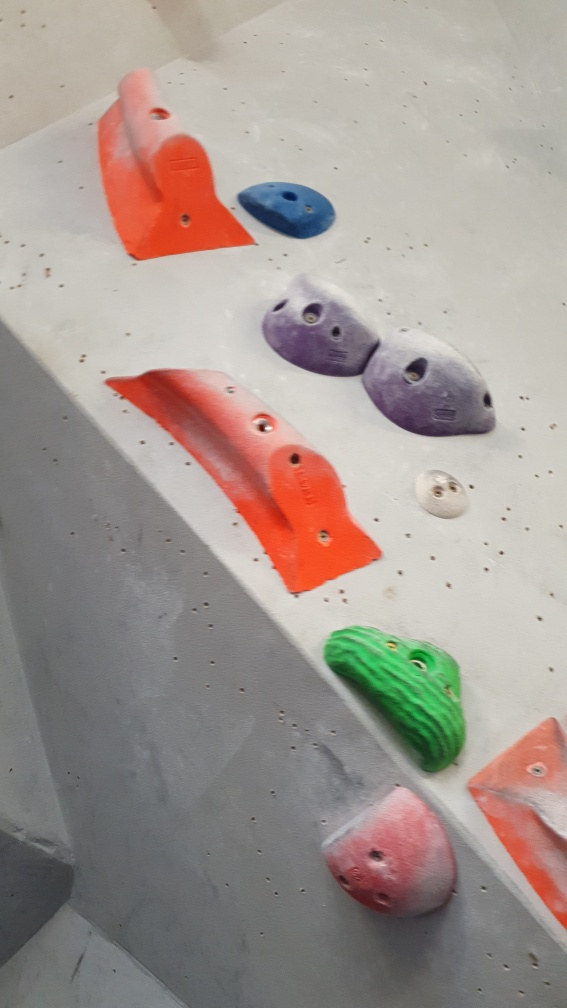Crimp: (235, 170, 337, 245)
Jug: (323, 622, 465, 773), (362, 325, 500, 441), (261, 270, 385, 378)
Pinch: (98, 360, 384, 603), (79, 69, 261, 266), (466, 721, 567, 932)
